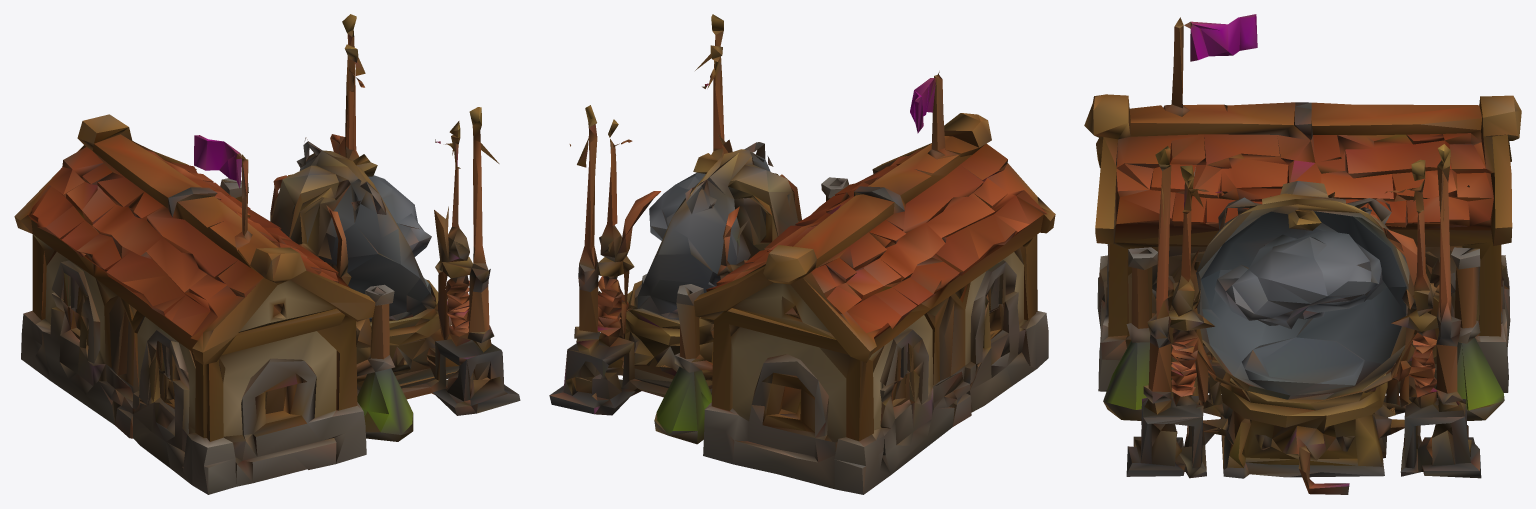
Rendered from weather_plant.lod2.glb.
3 views of the same model, side by side, from view 1: azimuth 30°, elevation 25°; view 2: azimuth 150°, elevation 25°; view 3: azimuth 270°, elevation 25° (orthographic). The views are drawn at different scales.
Parts seen in each view (by area): view 1: Mesh_0; view 2: Mesh_0; view 3: Mesh_0.
Part boxes in pixels (x1,y1,x2,y2): Mesh_0: (14, 14, 520, 494); Mesh_0: (549, 14, 1055, 494); Mesh_0: (1084, 14, 1521, 494).
Size of the model in its own units: 1.91 by 1.47 by 1.76.
